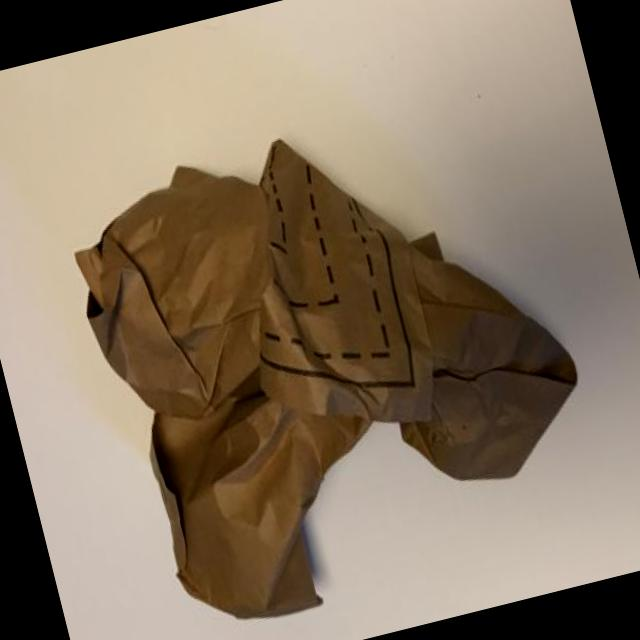paper: (49, 96, 575, 622)
